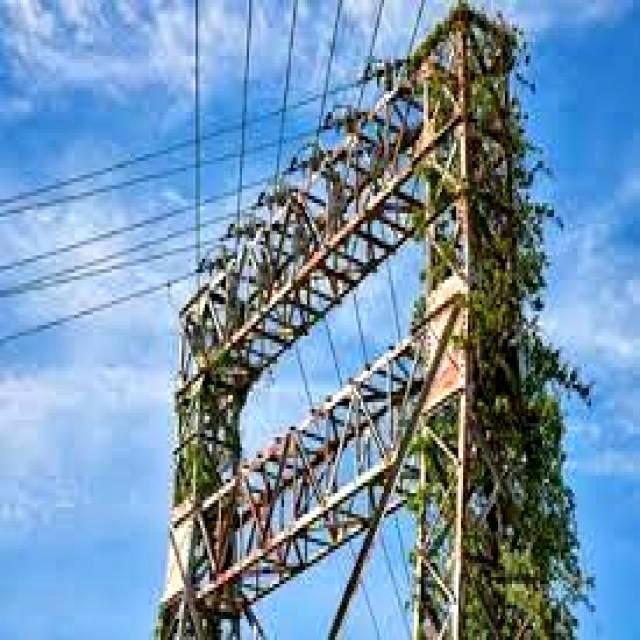critical vegetation: (408, 22, 545, 633), (172, 366, 219, 519)
